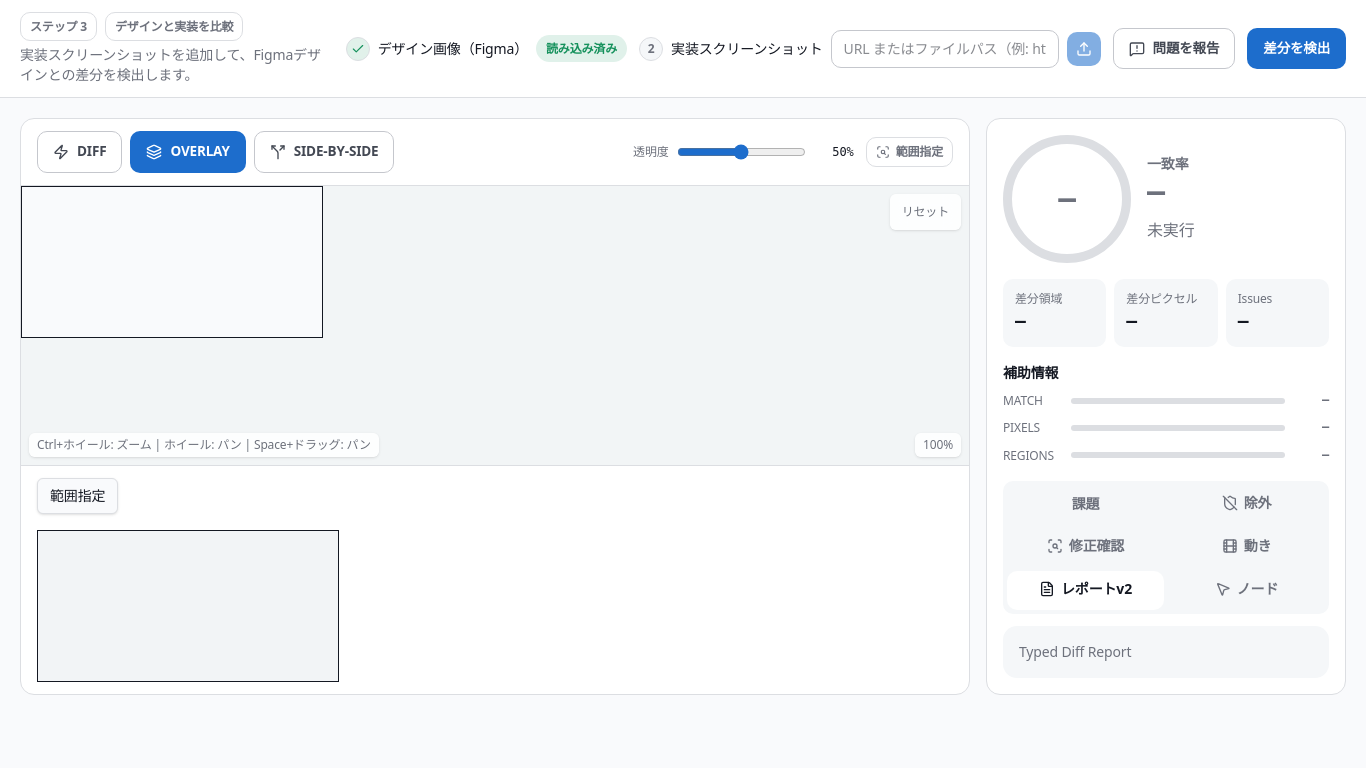
Test case: ComparePage › 画像読み込み失敗時はエラーを表示する
The image size is (1366, 768).
Type "/missing.png" into the field with placeholder "URL またはファイルパス（例: http://localhost:3000）" at (945, 49), box [831,30,1059,68]
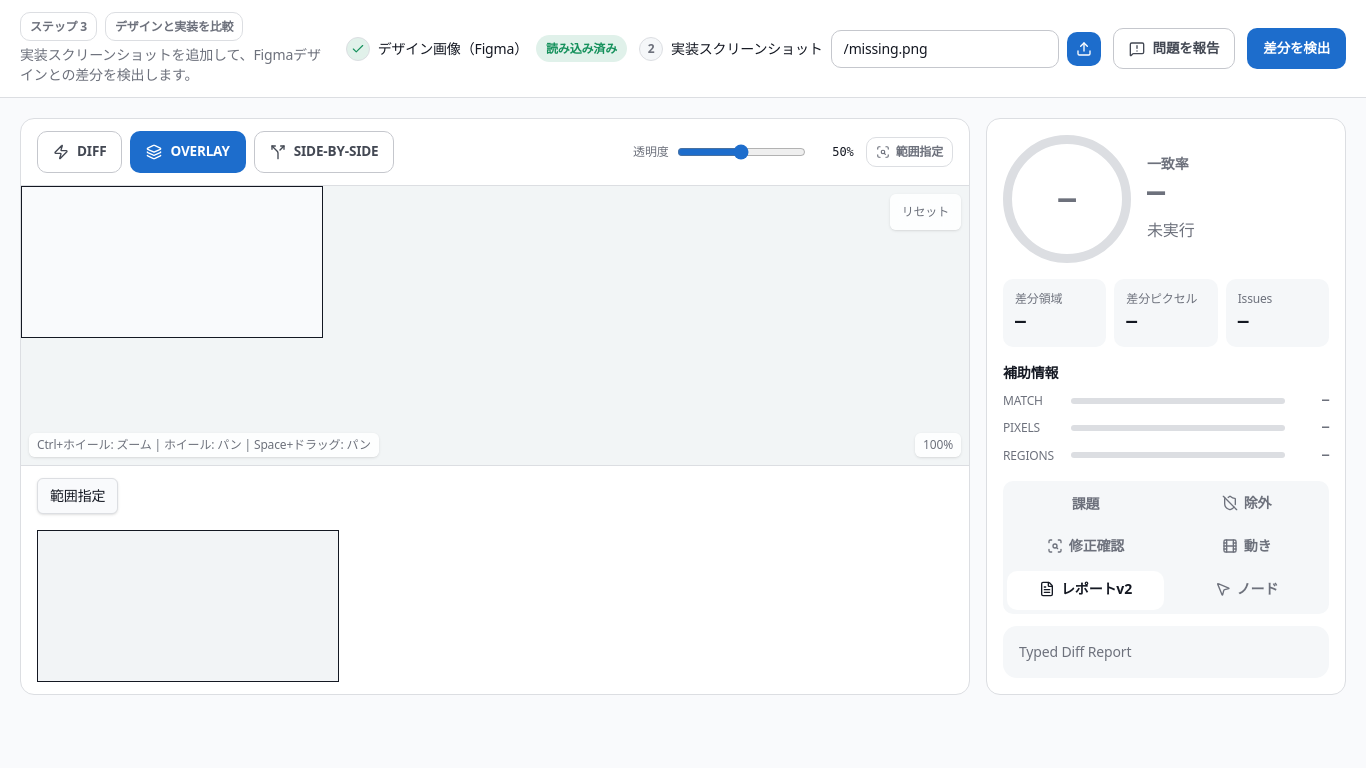
Click the button named "実装スクリーンショット" at (1084, 49), box [1067,32,1101,66]
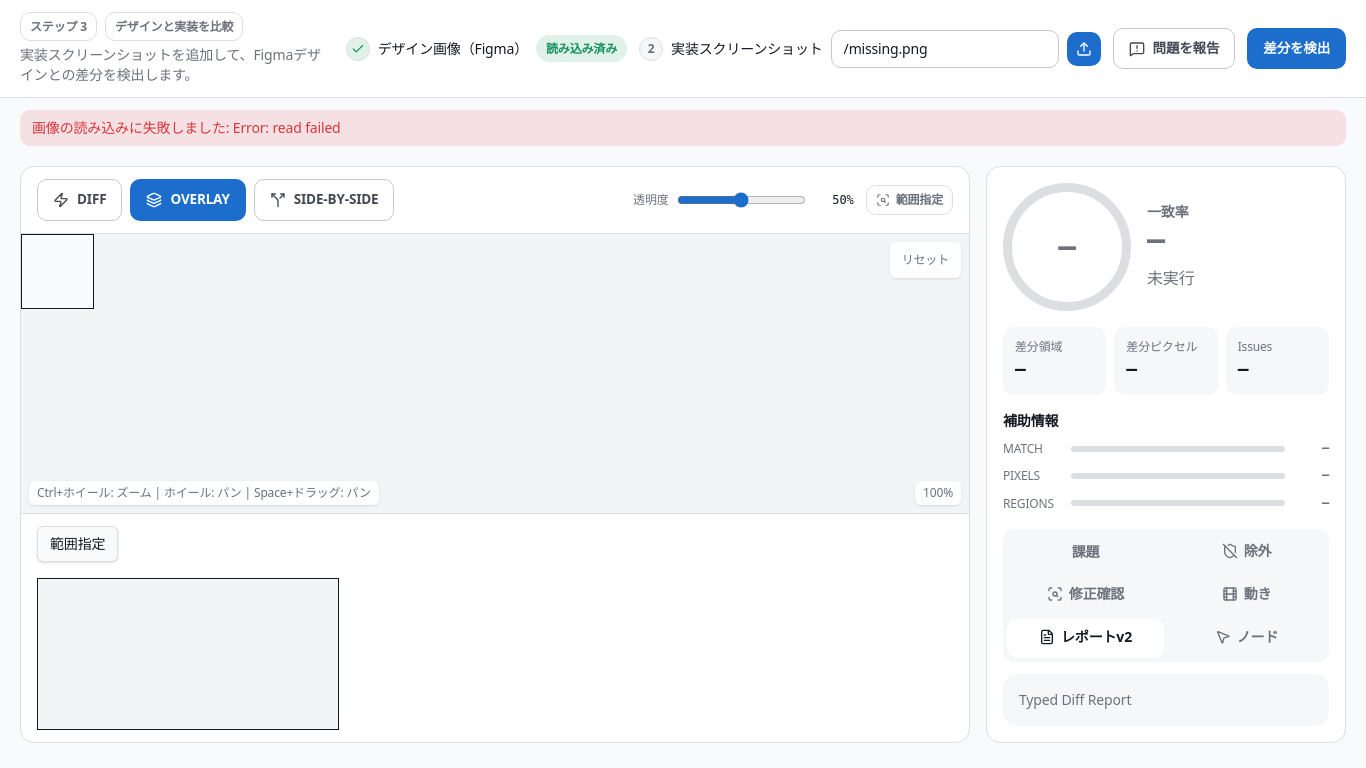
Expected: the text "画像の読み込みに失敗しました: Error: read failed" is shown, [20,110,1346,146]
